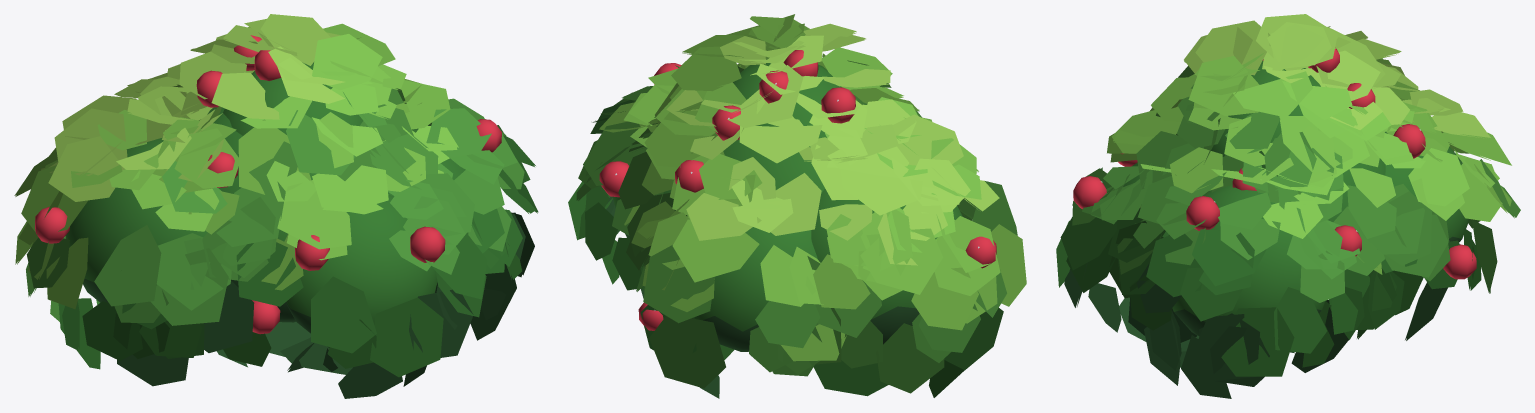
Rendered from BushBerry.glb.
3 renders of one model, left to right at view 1: azimuth 30°, elevation 25°; view 2: azimuth 150°, elevation 25°; view 3: azimuth 270°, elevation 25°, orthographic. The views are drawn at different scales.
Parts seen in each view (by area): view 1: Sway; view 2: Sway; view 3: Sway.
Part boxes in pixels (x1,y1,x2,y2): Sway: (14, 14, 538, 398); Sway: (568, 14, 1026, 398); Sway: (1056, 14, 1520, 398).
Size of the model in its own units: 4.68 by 3.29 by 4.4.
1 material, 1 textured.
